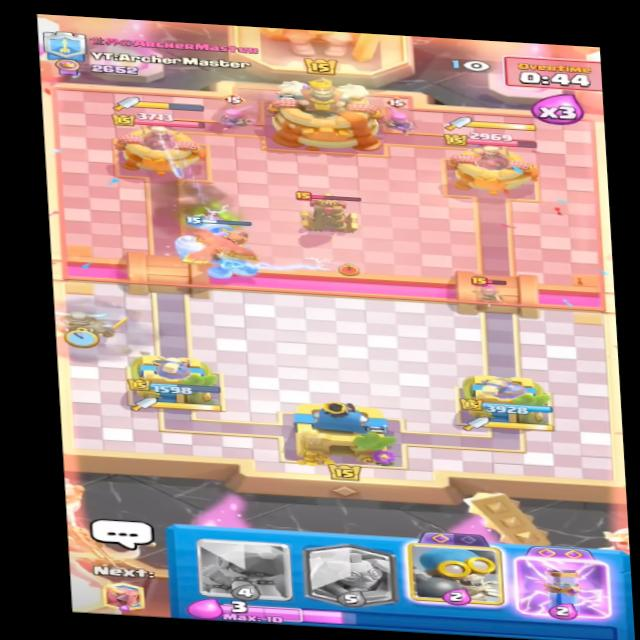archer: (471, 271, 516, 303)
evo-archers: (378, 96, 420, 129), (216, 96, 255, 131)
tesla: (296, 191, 369, 237)
